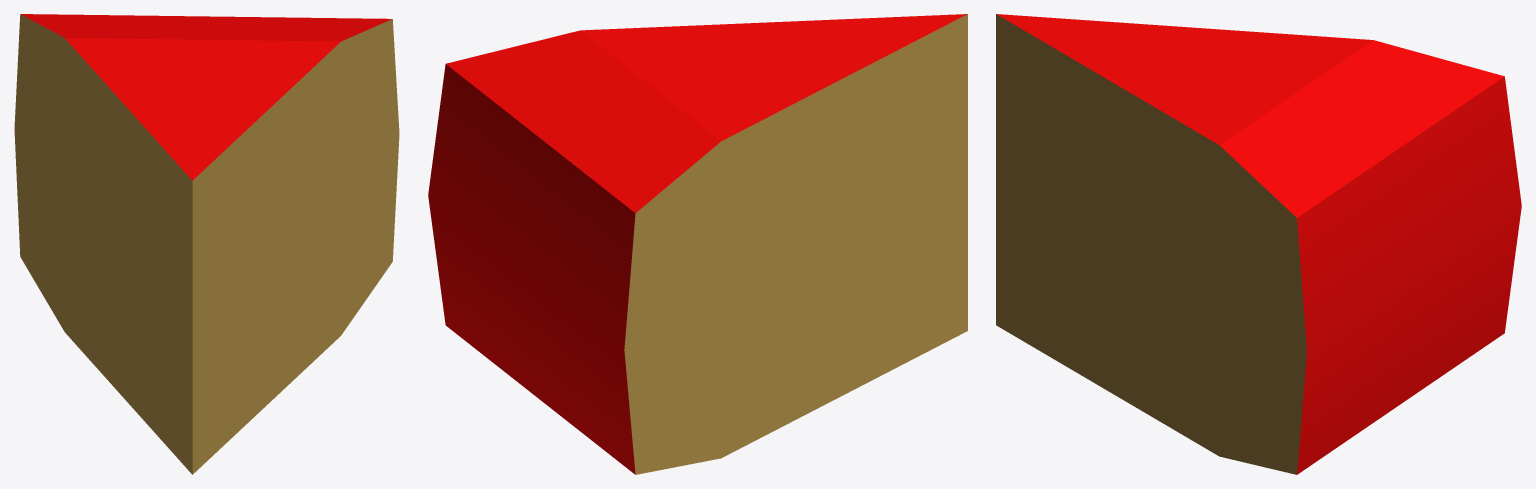
The model's file is cheese00.FBX.
3 views of the same model, side by side, from view 1: azimuth 30°, elevation 25°; view 2: azimuth 150°, elevation 25°; view 3: azimuth 270°, elevation 25° (orthographic). The views are drawn at different scales.
Parts seen in each view (by area): view 1: Object025; view 2: Object025; view 3: Object025.
Part boxes in pixels (x1=…): Object025: x1=14, y1=14, x2=399, y2=474; Object025: x1=428, y1=14, x2=967, y2=474; Object025: x1=996, y1=14, x2=1521, y2=474.
Bounding box in the file's own units: 334 × 265 × 406.
